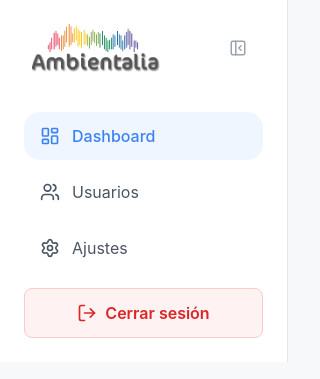
Sidebar — plegado › al contraer oculta las etiquetas (deja el ancho para las tablas)
Click the button named "Contraer menú" at (238, 48), box x1=221 y1=31 x2=255 y2=65
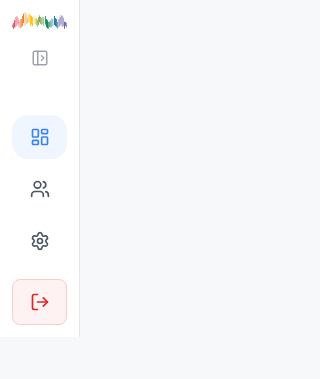
Expected: the link titled "Dashboard" is shown, x1=12 y1=115 x2=67 y2=159
Expected: the link "Dashboard" is gone
